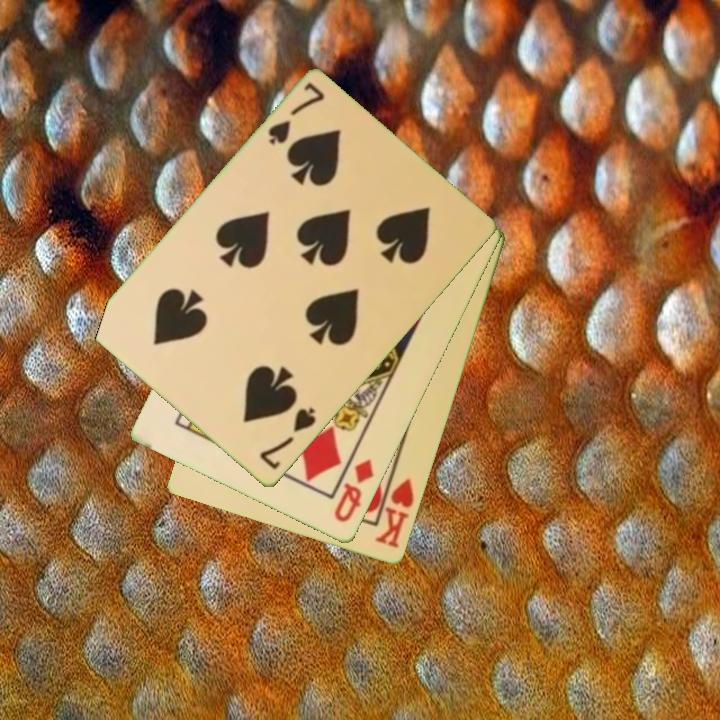7s: (264, 79, 328, 149), (255, 404, 319, 473)
Kh: (372, 467, 417, 552)
Qd: (330, 456, 377, 526)
